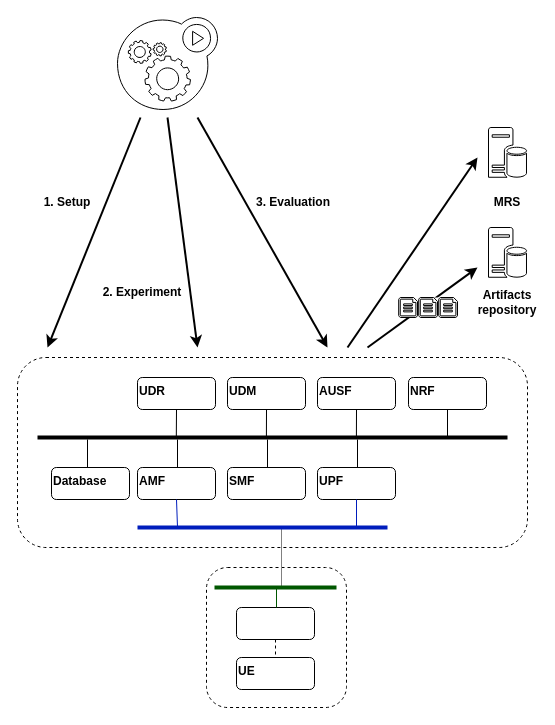
This 555x725 diagram has some shape labels left out. The centre of each missing label's shape, as x and y in pixels:
gNB: the point at 275,623
pos: the point at 167,63
